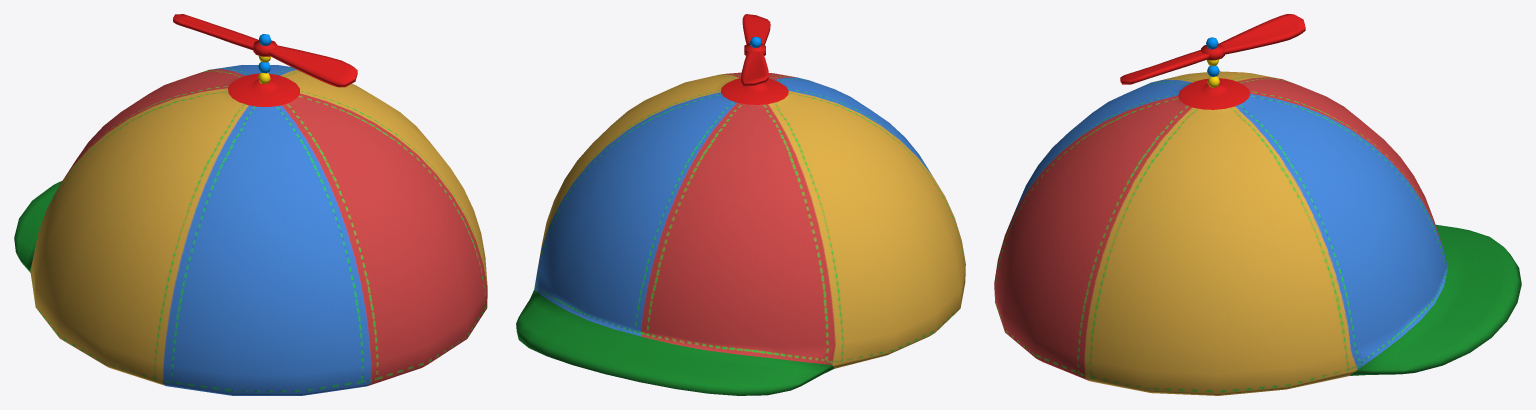
Rendered from PropellerHat.fbx.
The picture shows the model from 3 angles, left to right: view 1: azimuth 30°, elevation 25°; view 2: azimuth 150°, elevation 25°; view 3: azimuth 270°, elevation 25°; orthographic projection. The views are drawn at different scales.
Visible parts, largest first — view 1: PropellerHat1; view 2: PropellerHat1; view 3: PropellerHat1.
Part boxes in pixels (x1,y1,x2,y2): PropellerHat1: (14,14,487,395); PropellerHat1: (516,14,965,395); PropellerHat1: (994,14,1521,395).
Bounding box in the file's own units: 3.88 × 2.56 × 4.49.
1 material, 1 textured.
